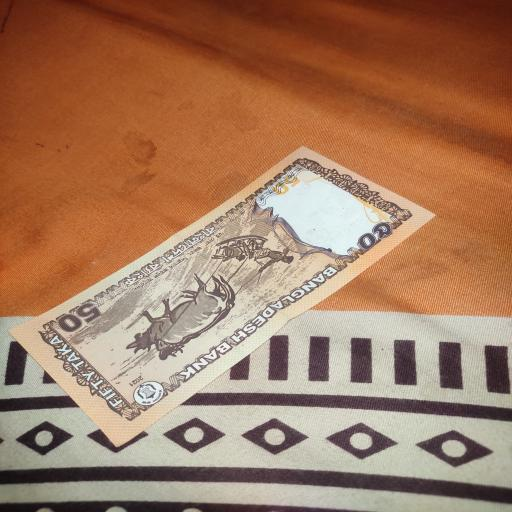50taka: (5, 147, 442, 447)
